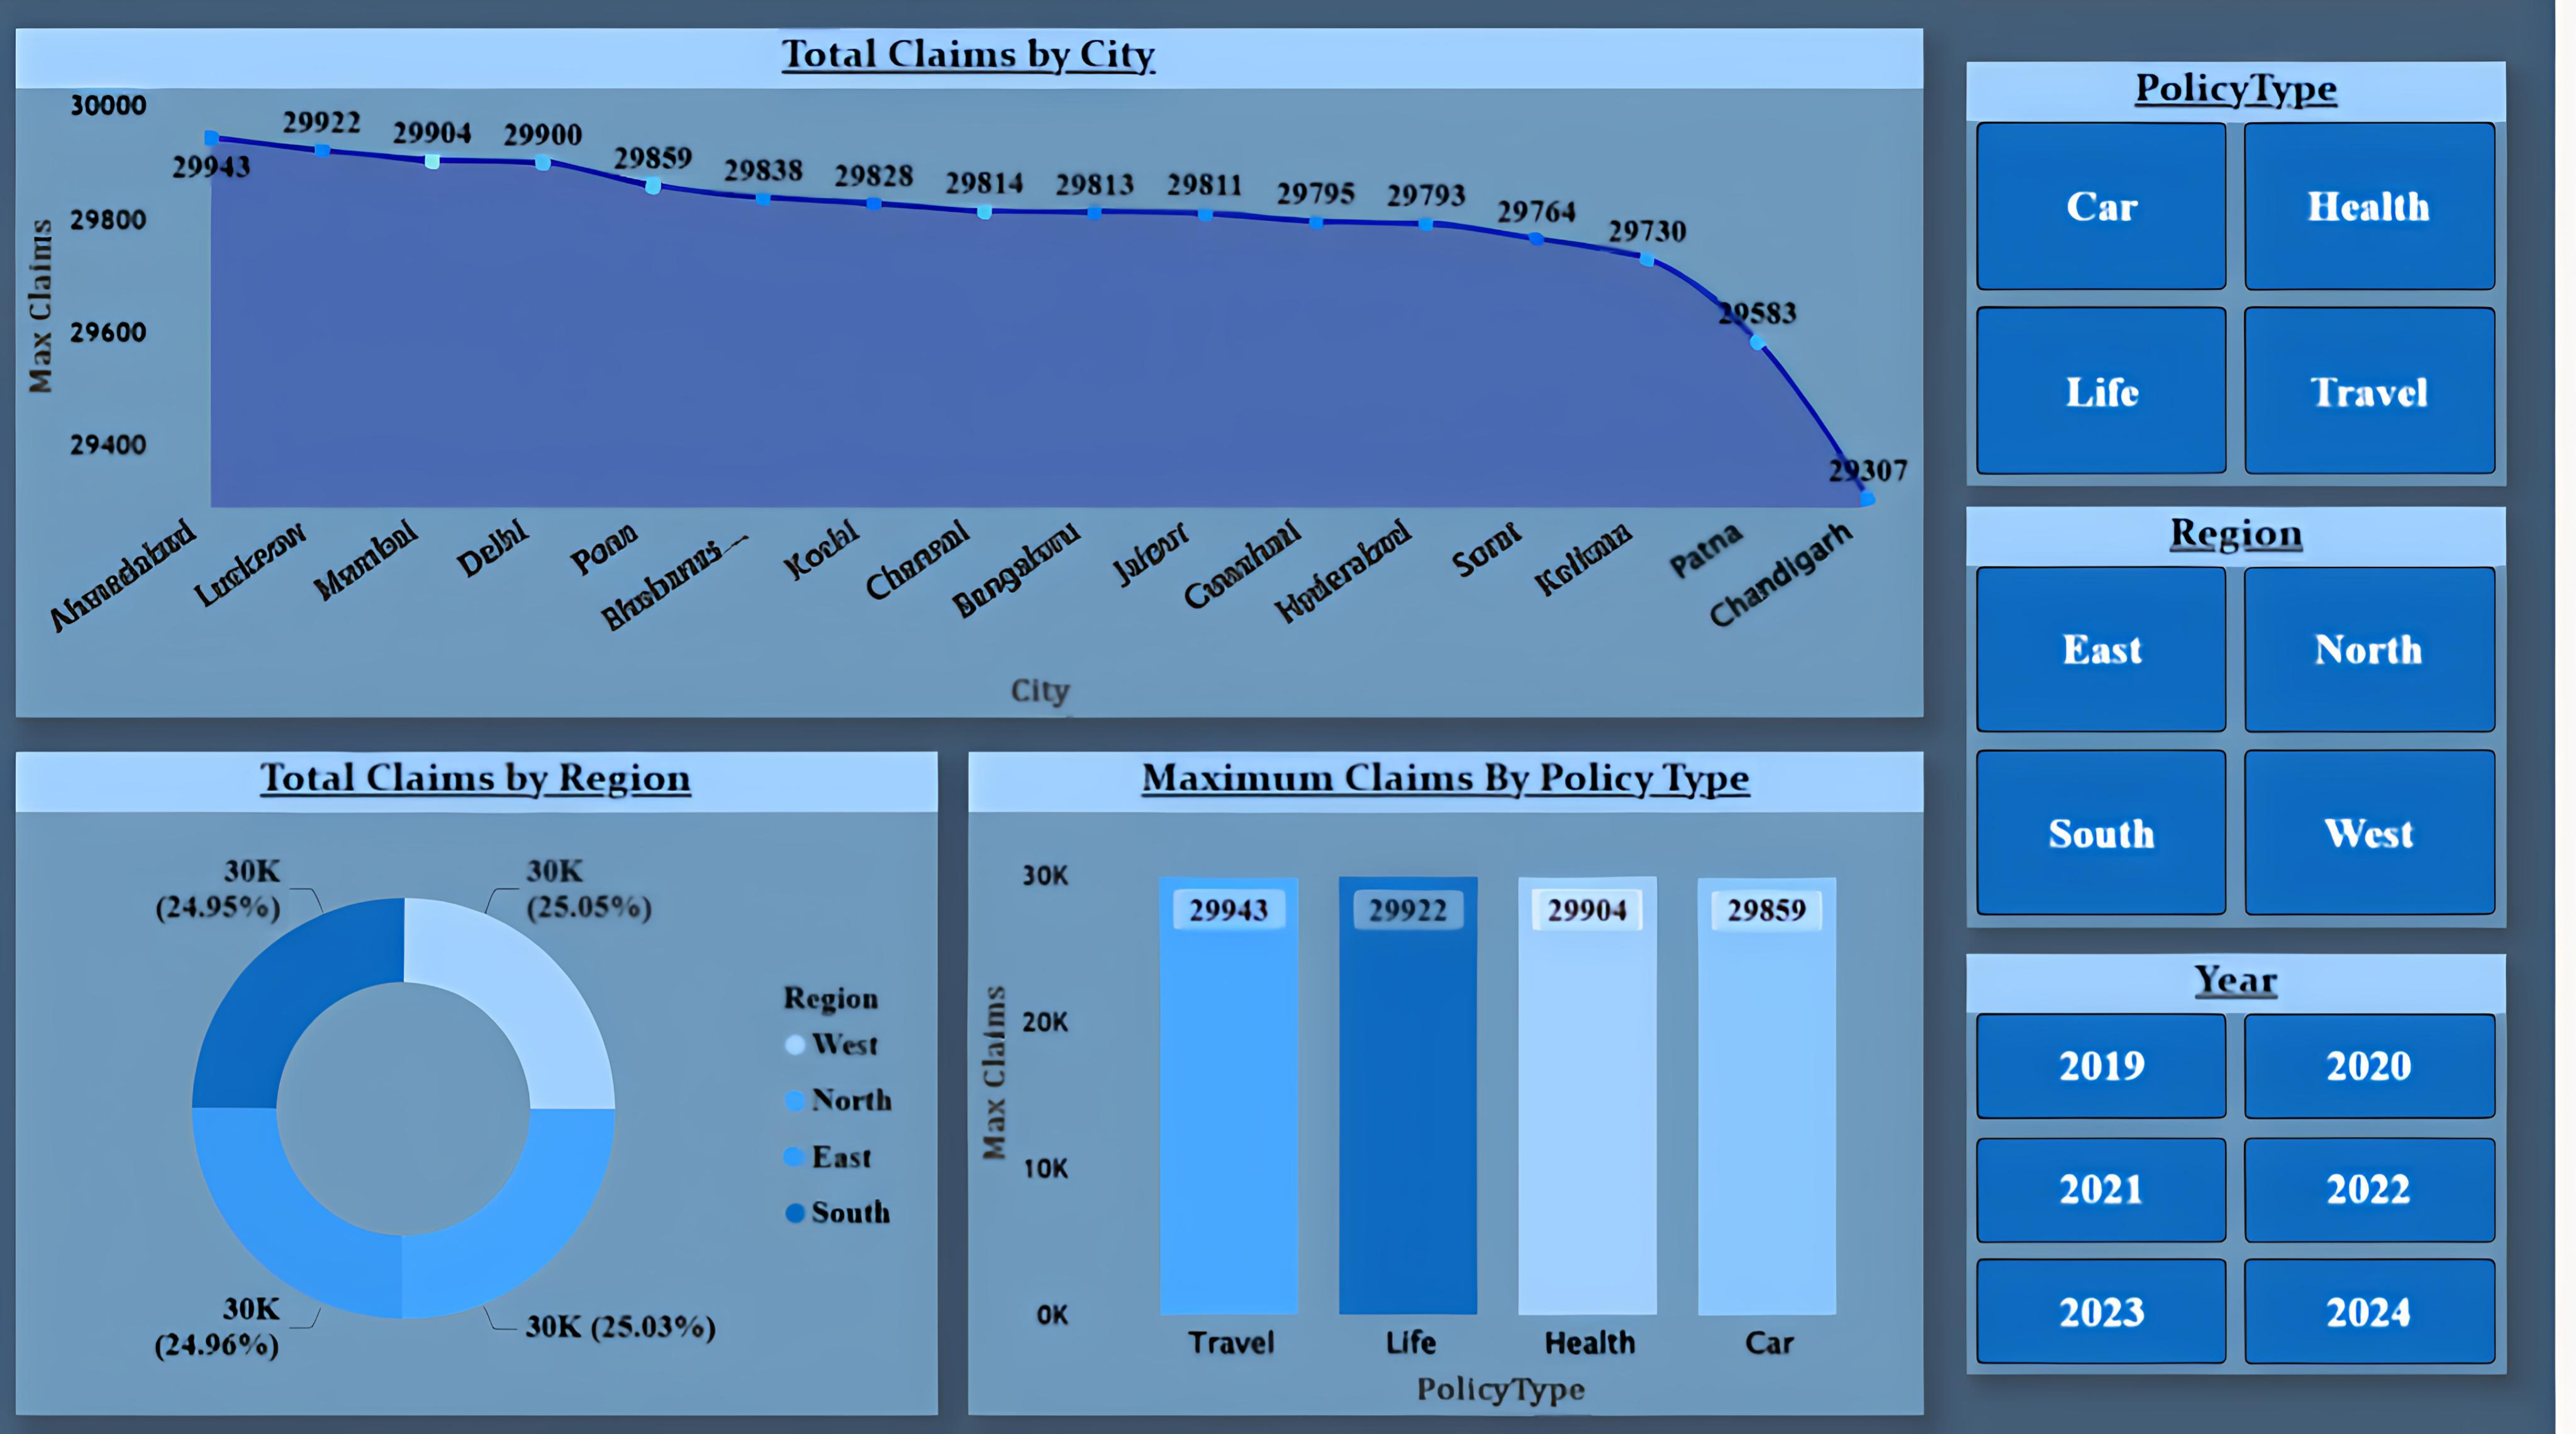

Layout of this report page (visuals, bound fields, positions):
{"tool":"powerbi","page":{"name":"Page 6","canvas":[1280,720],"ordinal":6},"visuals":[{"type":"areaChart","title":"Total Claims by City","fields":{"Category":["insurance_dataset_10000_with_city.City"],"Y":["Insurance.Max Claims"]},"box":[13.7,16.5,950.9,343.1],"z":0},{"type":"advancedSlicerVisual","fields":{"Values":["Insurance.PolicyStartDate.Variation.Date Hierarchy.Year"]},"box":[986.6,477.5,269,209.9],"z":1000},{"type":"advancedSlicerVisual","fields":{"Values":["Insurance.PolicyType"]},"box":[986.6,32.9,269,211.3],"z":2000},{"type":"clusteredColumnChart","title":"Maximum Claims By Policy Type","fields":{"Category":["Insurance.PolicyType"],"Y":["Insurance.Max Claims"]},"box":[488.5,377.4,476.2,330.7],"z":3000},{"type":"donutChart","title":"Total Claims by Region","fields":{"Category":["Insurance.Region"],"Y":["Insurance.Max Claims"]},"box":[13.7,377.4,459.7,330.7],"z":4000},{"type":"advancedSlicerVisual","fields":{"Values":["Insurance.Region"]},"box":[986.6,255.2,269,209.9],"z":5000}]}

Visuals, with their boxes in screenshot pixels (x1, y1, x2, y2), scaled from the page's 1280x720 canvas onto the 2576x1434 screenshot:
"Total Claims by City" areaChart: 28 33 1941 716
advancedSlicerVisual - Insurance.PolicyStartDate.Variation.Date Hierarchy.Year: 1985 951 2527 1369
advancedSlicerVisual - Insurance.PolicyType: 1985 65 2527 486
"Maximum Claims By Policy Type" clusteredColumnChart: 983 752 1941 1410
"Total Claims by Region" donutChart: 28 752 953 1410
advancedSlicerVisual - Insurance.Region: 1985 508 2527 926
